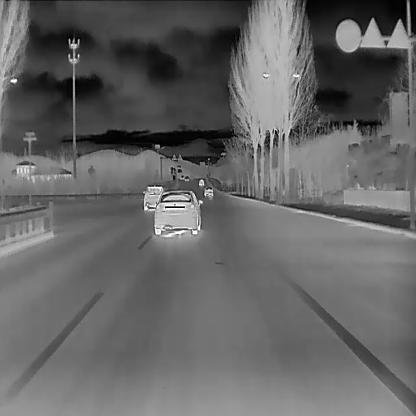car: (152, 188, 204, 236), (140, 184, 164, 209), (202, 184, 213, 196), (197, 177, 204, 186), (183, 175, 189, 181), (179, 174, 184, 179)
